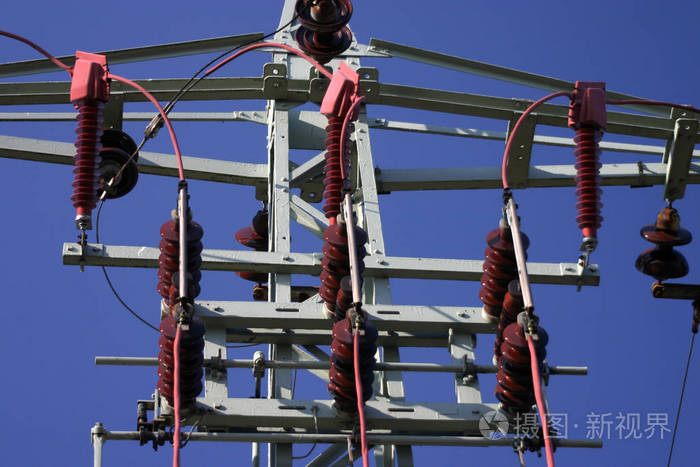insulator: (497, 327, 549, 412), (478, 229, 531, 312), (318, 225, 370, 305), (329, 320, 377, 405), (157, 318, 207, 398), (156, 219, 203, 302), (292, 1, 356, 58), (570, 134, 606, 232), (70, 102, 102, 210), (635, 222, 692, 279), (97, 127, 136, 203), (322, 118, 350, 222)
